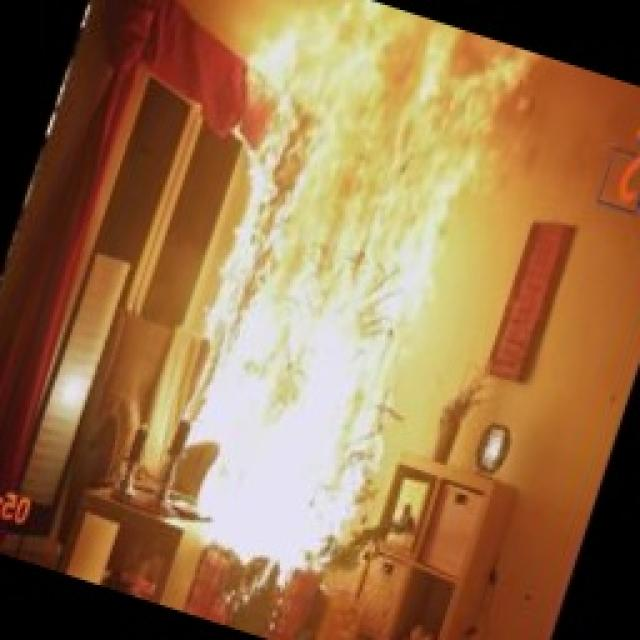fire: (76, 0, 576, 632)
